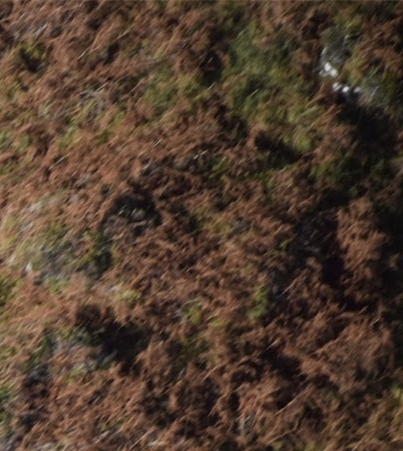white_in_green: (284, 15, 398, 122)
